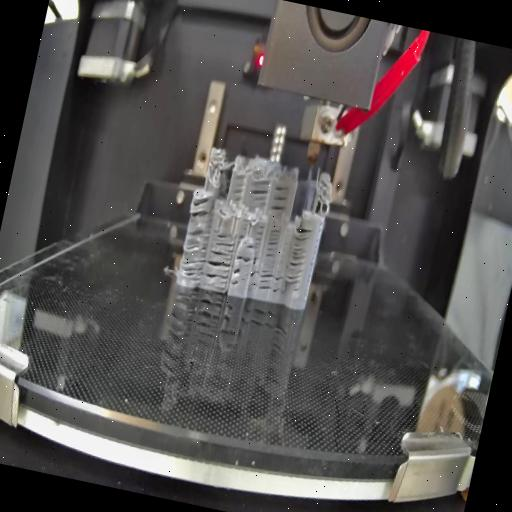cracks: (176, 228, 212, 280), (282, 225, 312, 285), (202, 246, 234, 292), (246, 174, 272, 208), (188, 190, 212, 222), (268, 182, 290, 214), (264, 224, 280, 261), (258, 270, 282, 293), (247, 256, 263, 290), (214, 228, 236, 248), (232, 171, 248, 198), (236, 217, 250, 239), (228, 266, 242, 288), (253, 223, 266, 242), (234, 254, 254, 266), (244, 241, 258, 250)
